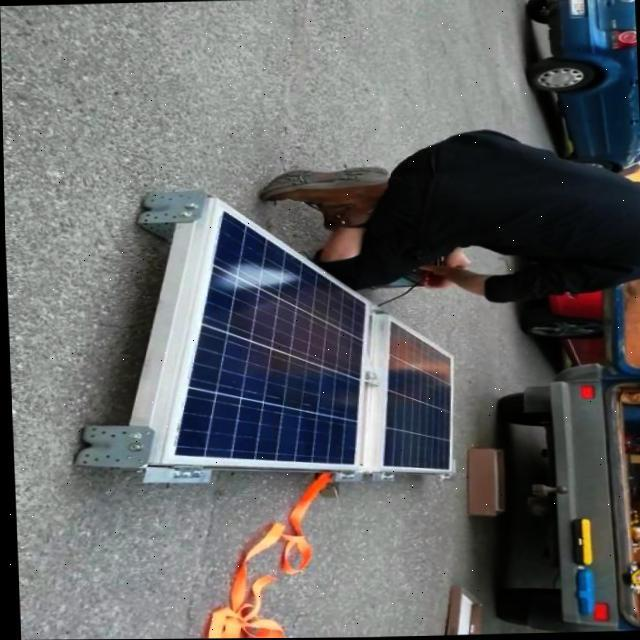Normal Solar Panel: (148, 196, 374, 472), (368, 316, 453, 472)
